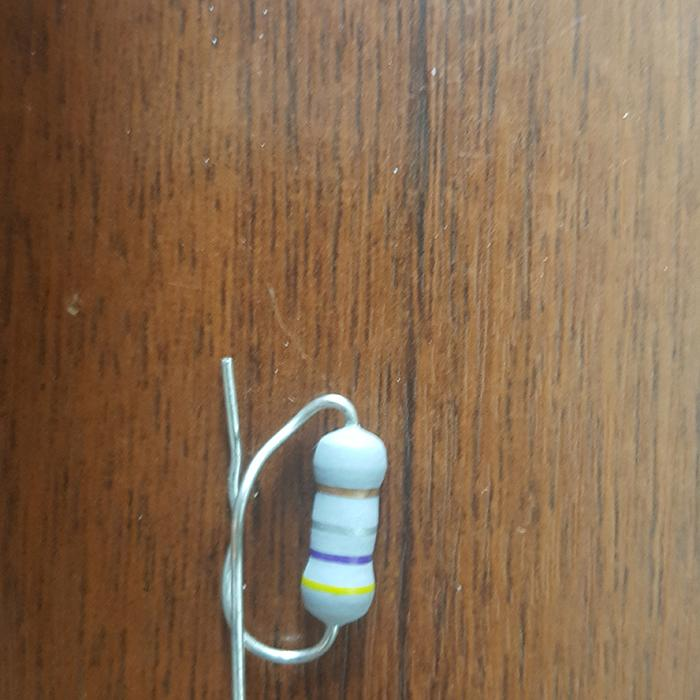resistor: (300, 424, 387, 627)
